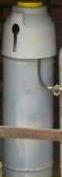cylinder: (0, 1, 62, 177)
